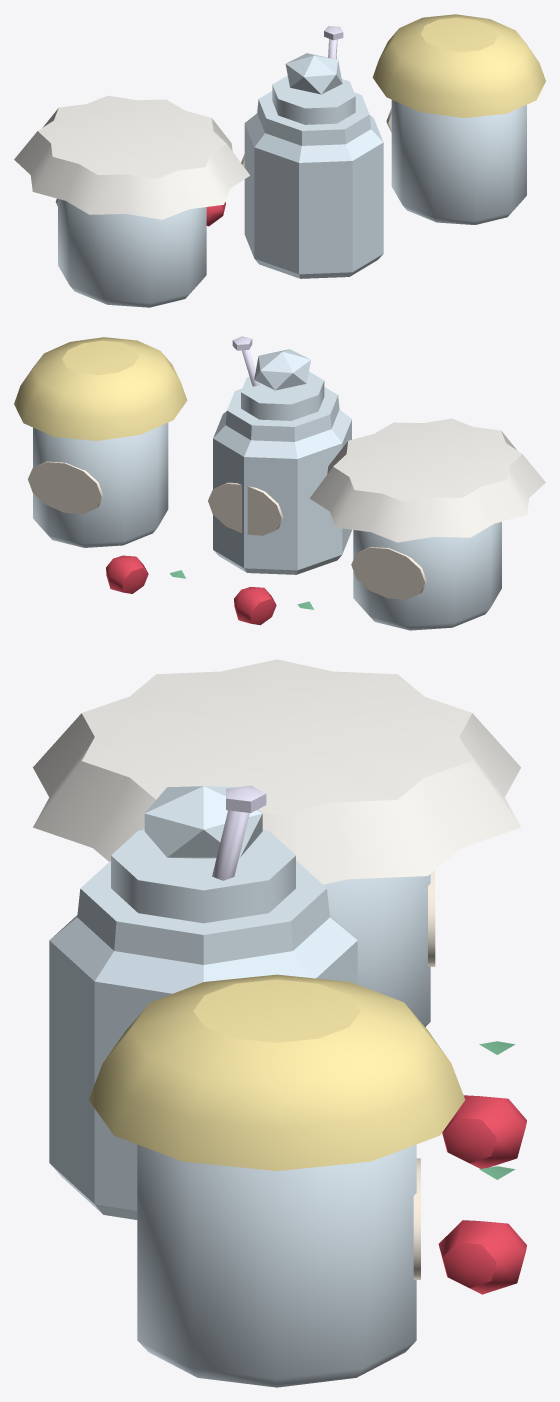
Rendered from jam_jars.glb.
3 views of the same model, one above another, from view 1: azimuth 30°, elevation 25°; view 2: azimuth 150°, elevation 25°; view 3: azimuth 270°, elevation 25° (orthographic). The views are drawn at different scales.
Parts seen in each view (by area): view 1: jam_jars; view 2: jam_jars; view 3: jam_jars.
Boxes of the visible parts, <box> form: jam_jars: <box>14,14,545,307</box>; jam_jars: <box>14,336,545,630</box>; jam_jars: <box>33,659,526,1387</box>.
Size of what is drawn, in the model's own units: 0.35 by 0.15 by 0.15.
